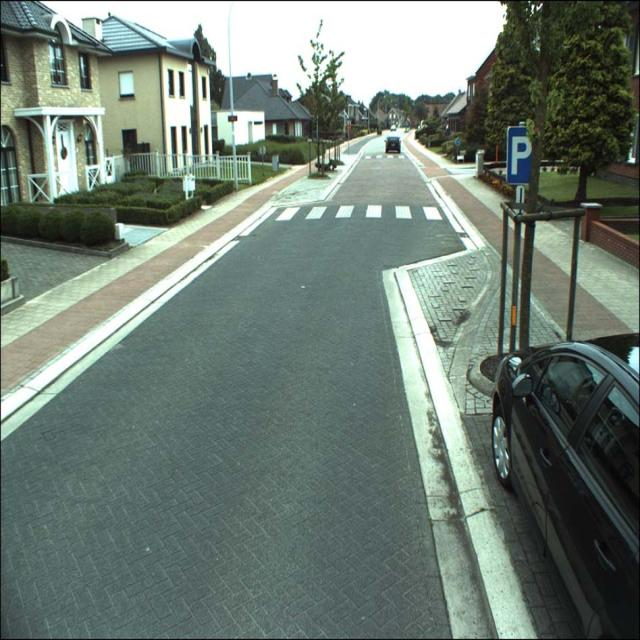park: (507, 126, 536, 182)
